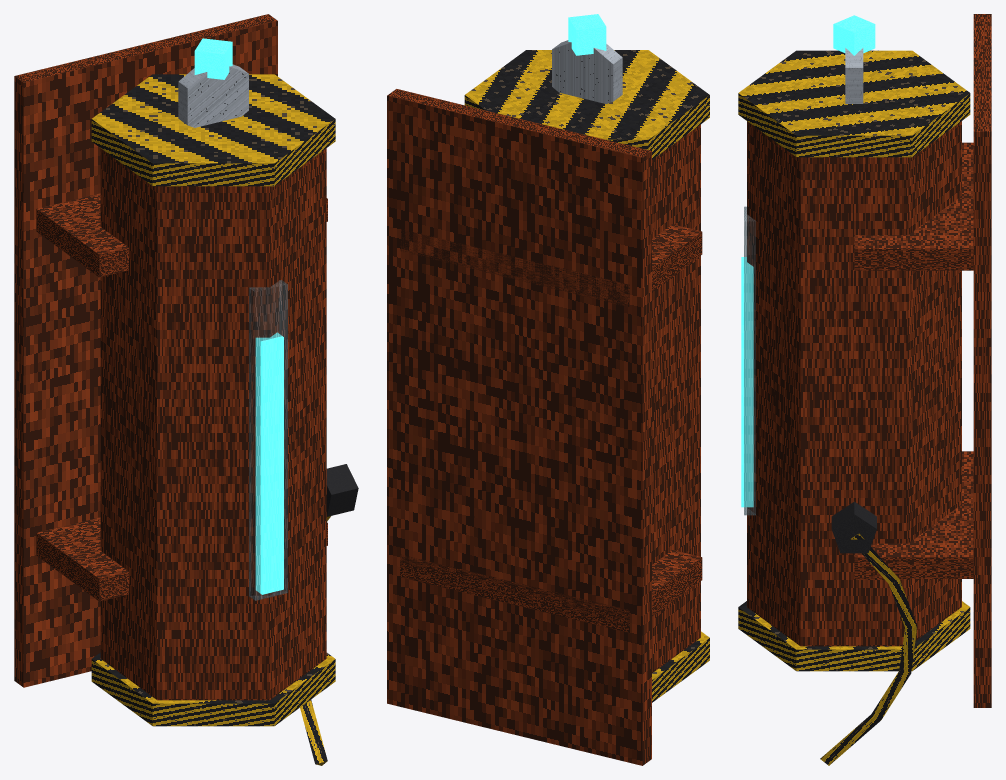
File: oxypod_derelict_decay.glb
The picture shows the model from 3 angles, left to right: view 1: azimuth 30°, elevation 25°; view 2: azimuth 150°, elevation 25°; view 3: azimuth 270°, elevation 25°; orthographic projection. The views are drawn at different scales.
Visible parts, largest first — view 1: oxypod_derelict_decay; view 2: oxypod_derelict_decay; view 3: oxypod_derelict_decay.
Boxes of the visible parts, x1,y1,x2,y2 form: oxypod_derelict_decay: (14,14,358,765); oxypod_derelict_decay: (387,14,709,765); oxypod_derelict_decay: (738,14,991,765).
Size of the model in its own units: 0.4809 by 1.29 by 0.4244.
Materials: 9 (9 with a texture image).
